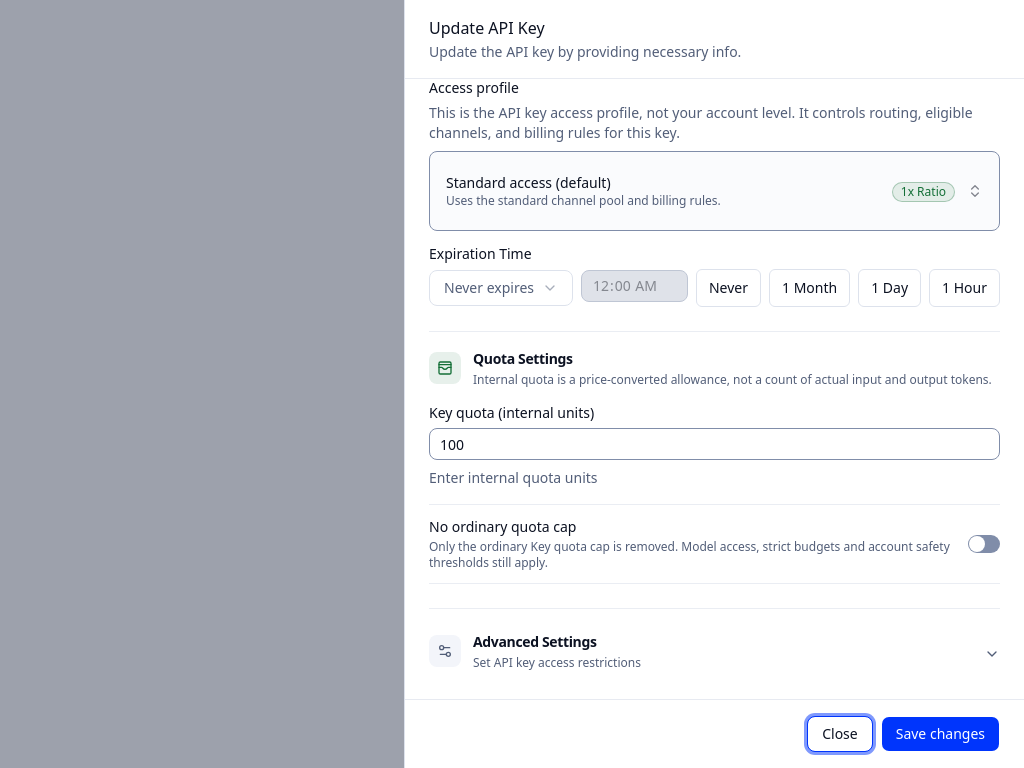
Test: shows the complete unlimited model scope as read-only in the generic editor
(page scrolled)
Expected: the button "Save changes" is enabled, [881,716,1000,752]
Click the button "Advanced Settings Set API key access restrictions": [445, 651] box [429,629,1000,679]
(page scrolled)
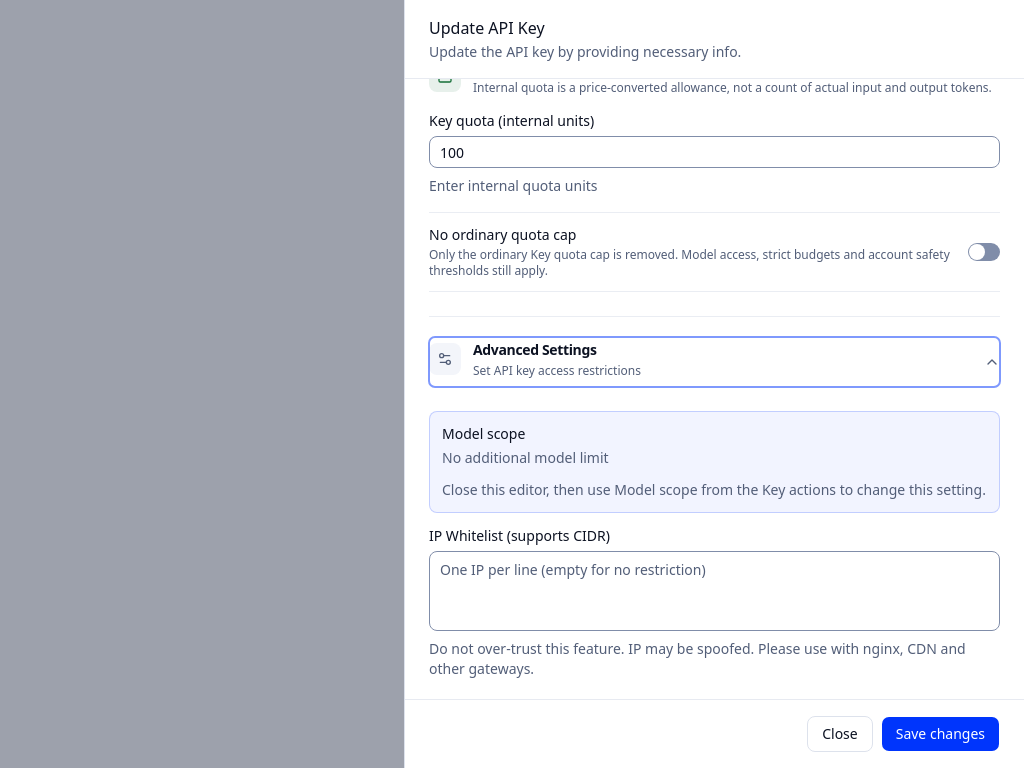
Expected: the text "No additional model limit" is shown, [442,448,609,467]
Expected: the text "Close this editor, then use Model scope from the Key actions to change this setting." is shown, [442,480,986,499]
